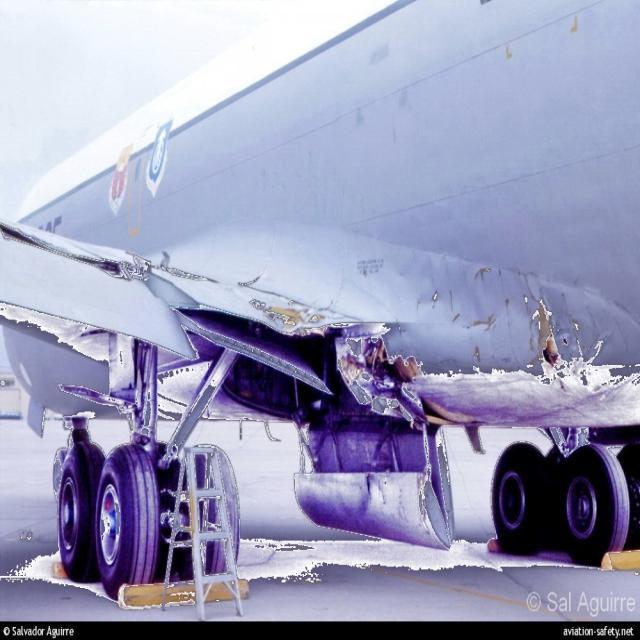crack: (539, 299, 570, 367)
dent: (400, 252, 530, 369)
